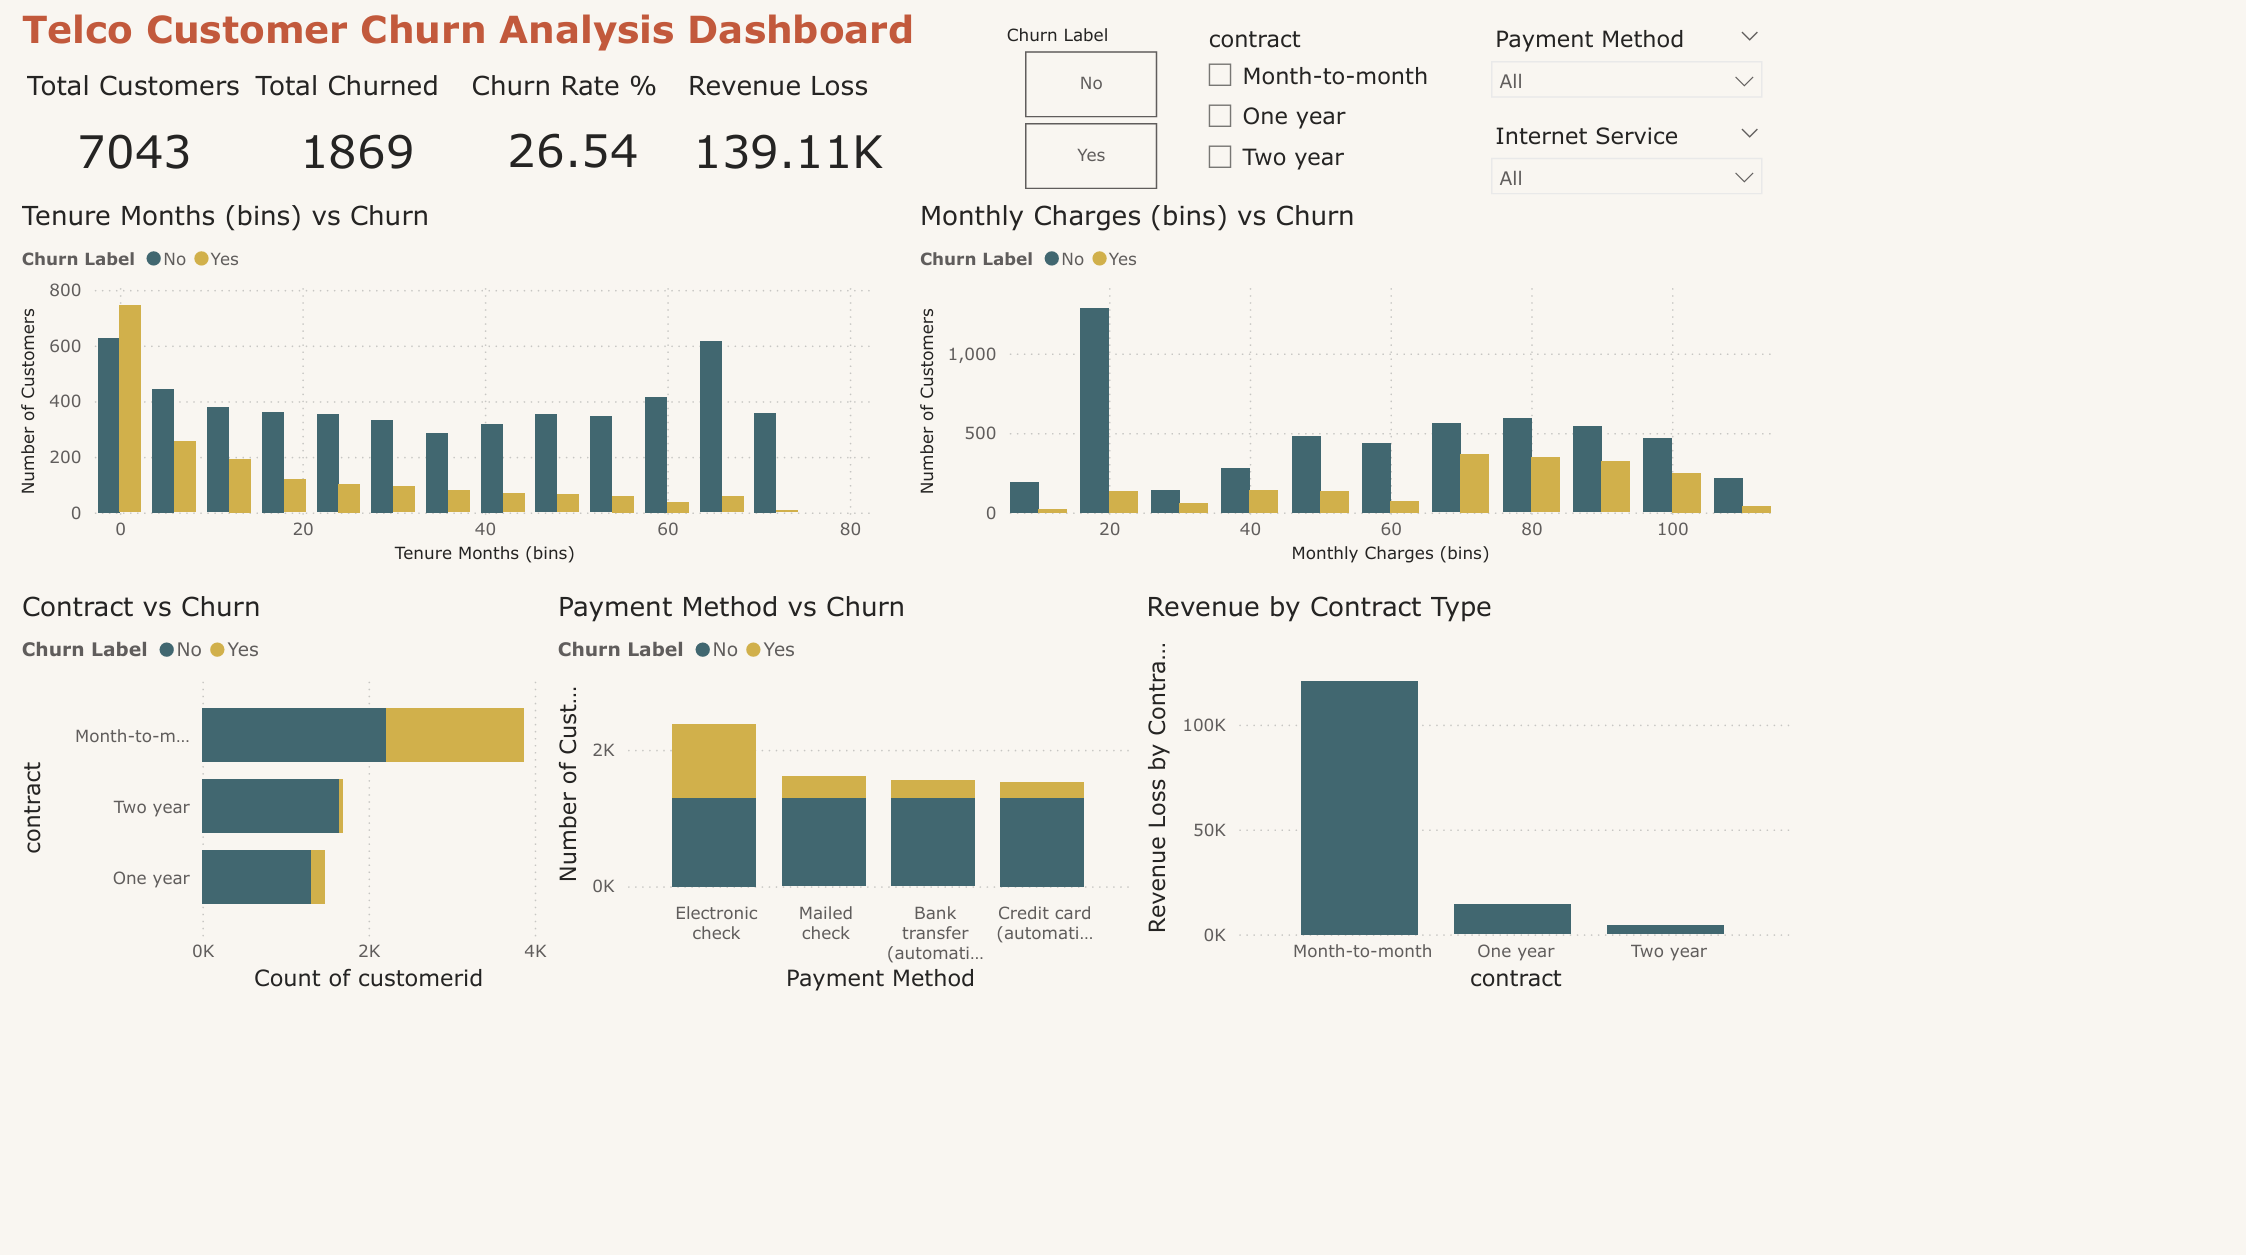

What the dashboard file says about the page in this screenshot:
{"tool":"powerbi","page":{"name":"Page 1","canvas":[1280,720],"ordinal":0},"visuals":[{"type":"card","title":"Churn Rate %","fields":{"Values":["public churn_data.Churn Rate"]},"box":[332.5,50,153.8,92.5],"z":0},{"type":"barChart","title":"Contract vs Churn","fields":{"Series":["public churn_data.Churn Label"],"Category":["public churn_data.contract"],"Y":["CountNonNull(public churn_data.customerid)"]},"box":[12.1,419.9,382.9,291.4],"z":1000},{"type":"columnChart","title":"Payment Method vs Churn","fields":{"Category":["public churn_data.Payment Method"],"Y":["CountNonNull(public churn_data.customerid)"],"Series":["public churn_data.Churn Label"]},"box":[393.6,419.9,418.6,291.4],"z":2000},{"type":"clusteredColumnChart","title":"Revenue by Contract Type","fields":{"Category":["public churn_data.contract"],"Y":["Sum(public churn_data.Monthly Charges)"]},"box":[812.5,420,468.8,291.2],"z":3000},{"type":"clusteredColumnChart","title":"Monthly Charges (bins) vs Churn","fields":{"Category":["public churn_data.Monthly Charges (bins)"],"Series":["public churn_data.Churn Label"],"Y":["CountNonNull(public churn_data.customerid)"]},"box":[651.2,142.5,615,263.8],"z":4000},{"type":"clusteredColumnChart","title":"Tenure Months (bins) vs Churn","fields":{"Y":["CountNonNull(public churn_data.customerid)"],"Series":["public churn_data.Churn Label"],"Category":["public churn_data.Tenure Months (bins)"]},"box":[12.5,142.5,616.2,263.8],"z":5000},{"type":"card","title":"Total Customers","fields":{"Values":["Count(public churn_data.customerid)"]},"box":[15.7,50,162.9,94.3],"z":6000},{"type":"card","title":"Revenue Loss","fields":{"Values":["public churn_data.Revenue Loss"]},"box":[485.7,50,152.9,94.3],"z":7000},{"type":"slicer","fields":{"Values":["public churn_data.Churn Label"]},"box":[705,14.2,144.3,128.6],"z":8000},{"type":"slicer","fields":{"Values":["public churn_data.Payment Method"]},"box":[1052.1,14.2,212.9,70],"z":9000},{"type":"slicer","fields":{"Values":["public churn_data.contract"]},"box":[849.3,14.2,202.9,130],"z":10000},{"type":"card","title":"Total Churned ","fields":{"Values":["public churn_data.Total Chured"]},"box":[178.6,50,154.3,94.3],"z":11000},{"type":"slicer","fields":{"Values":["public churn_data.Internet Service"]},"box":[1052.1,82.8,212.9,72.9],"z":12000},{"type":"textbox","box":[12.5,0,693.8,43.8],"z":13000}]}

Visuals, with their boxes in screenshot pixels (x1, y1, x2, y2), scaled from the page's 1280x720 canvas onto the 2246x1255 screenshot:
"Churn Rate %" card: (x1=583, y1=87, x2=853, y2=248)
"Contract vs Churn" barChart: (x1=21, y1=732, x2=693, y2=1240)
"Payment Method vs Churn" columnChart: (x1=691, y1=732, x2=1425, y2=1240)
"Revenue by Contract Type" clusteredColumnChart: (x1=1426, y1=732, x2=2245, y2=1240)
"Monthly Charges (bins) vs Churn" clusteredColumnChart: (x1=1143, y1=248, x2=2222, y2=708)
"Tenure Months (bins) vs Churn" clusteredColumnChart: (x1=22, y1=248, x2=1103, y2=708)
"Total Customers" card: (x1=28, y1=87, x2=313, y2=252)
"Revenue Loss" card: (x1=852, y1=87, x2=1121, y2=252)
slicer - public churn_data.Churn Label: (x1=1237, y1=25, x2=1490, y2=249)
slicer - public churn_data.Payment Method: (x1=1846, y1=25, x2=2220, y2=147)
slicer - public churn_data.contract: (x1=1490, y1=25, x2=1846, y2=251)
"Total Churned " card: (x1=313, y1=87, x2=584, y2=252)
slicer - public churn_data.Internet Service: (x1=1846, y1=144, x2=2220, y2=271)
textbox: (x1=22, y1=0, x2=1239, y2=76)
